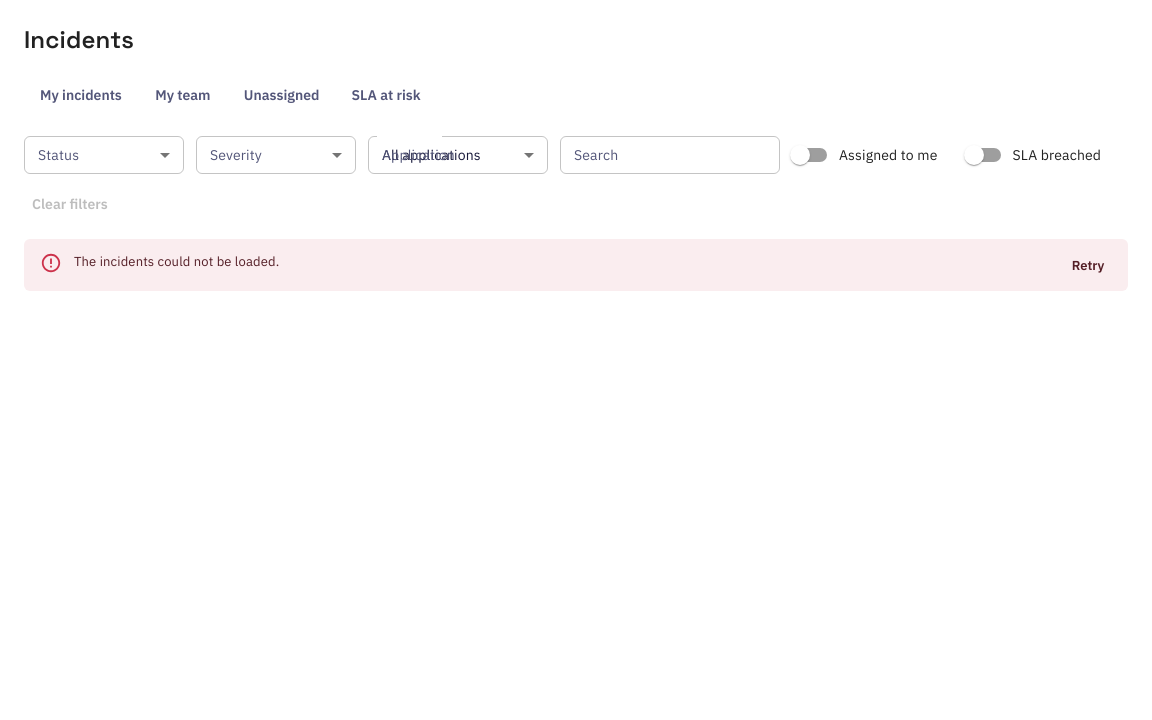
Test: IncidentListRoute › shows an inline retry after a failure and recovers
The width and height of the screenshot is (1152, 720).
Check: the text "The incidents could not be loaded." is shown, box 74,252 -> 279,270
Click the button "Retry" at x=1088, y=266, box 1056,248 -> 1120,284
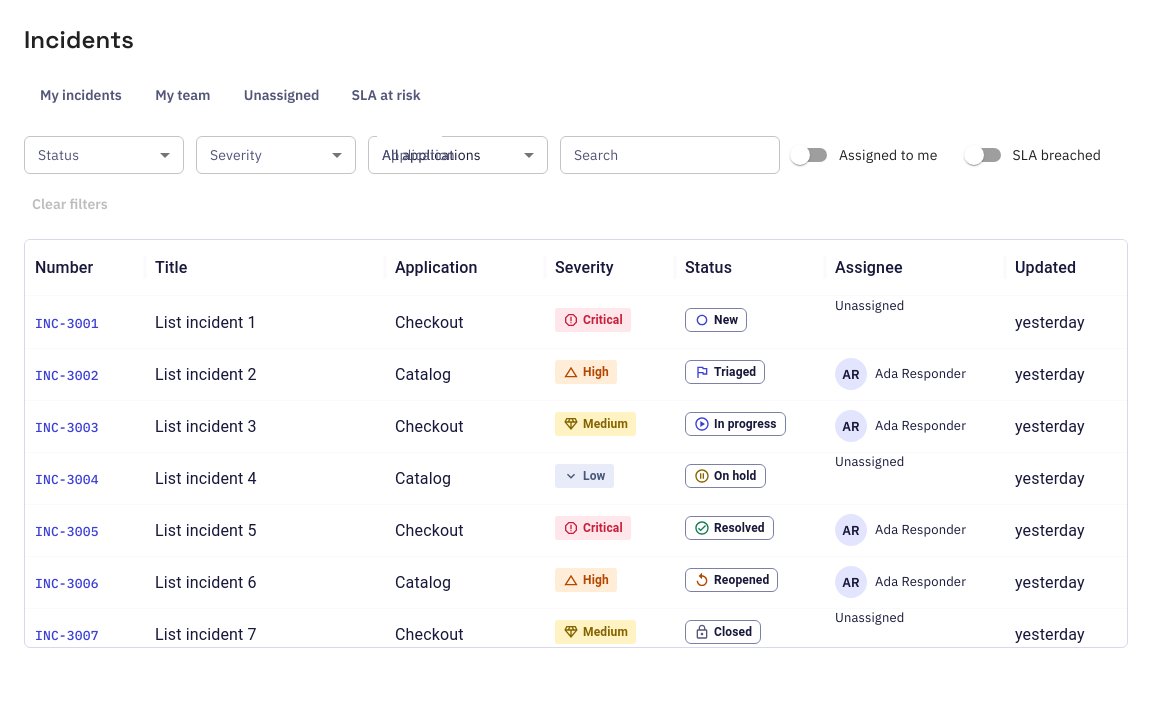
Check: the table named "Incidents" is shown, box 25,240 -> 1127,646
